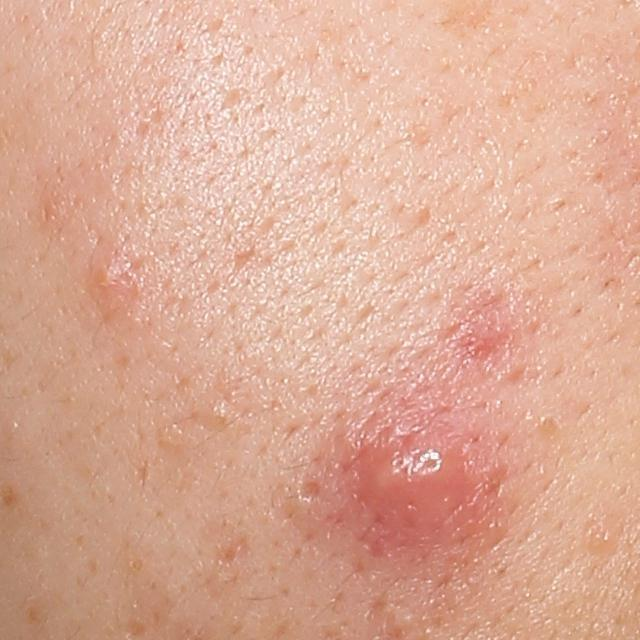atrophic_scar: (213, 538, 250, 565), (297, 478, 324, 502)
comedo: (593, 526, 618, 551), (209, 403, 233, 424)
papule: (83, 245, 141, 307), (461, 312, 509, 355)
